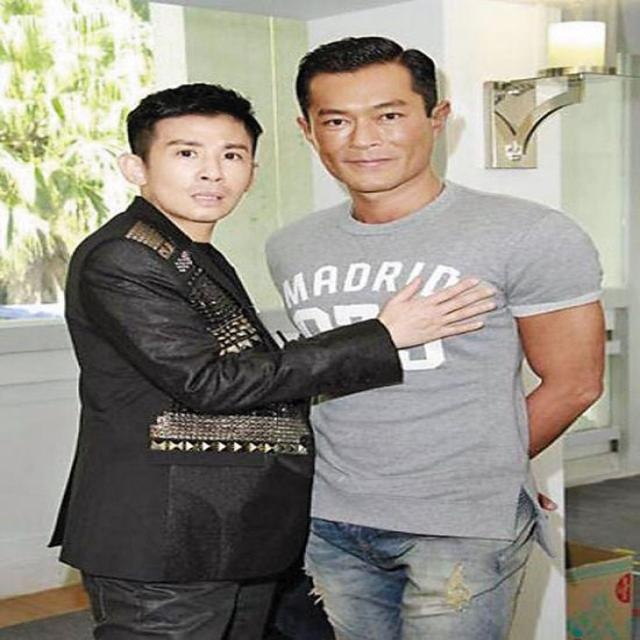obstacle: (267, 15, 640, 640), (52, 50, 312, 640)
